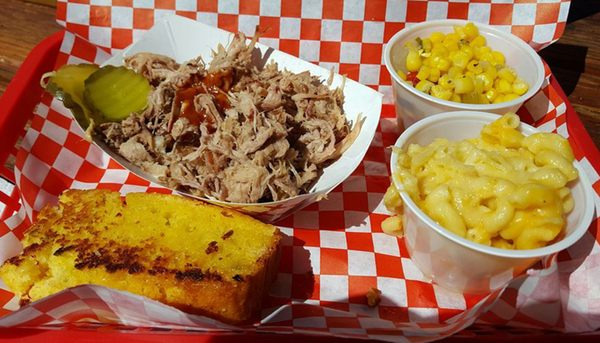sushi: (389, 110, 596, 297), (382, 19, 544, 125)
